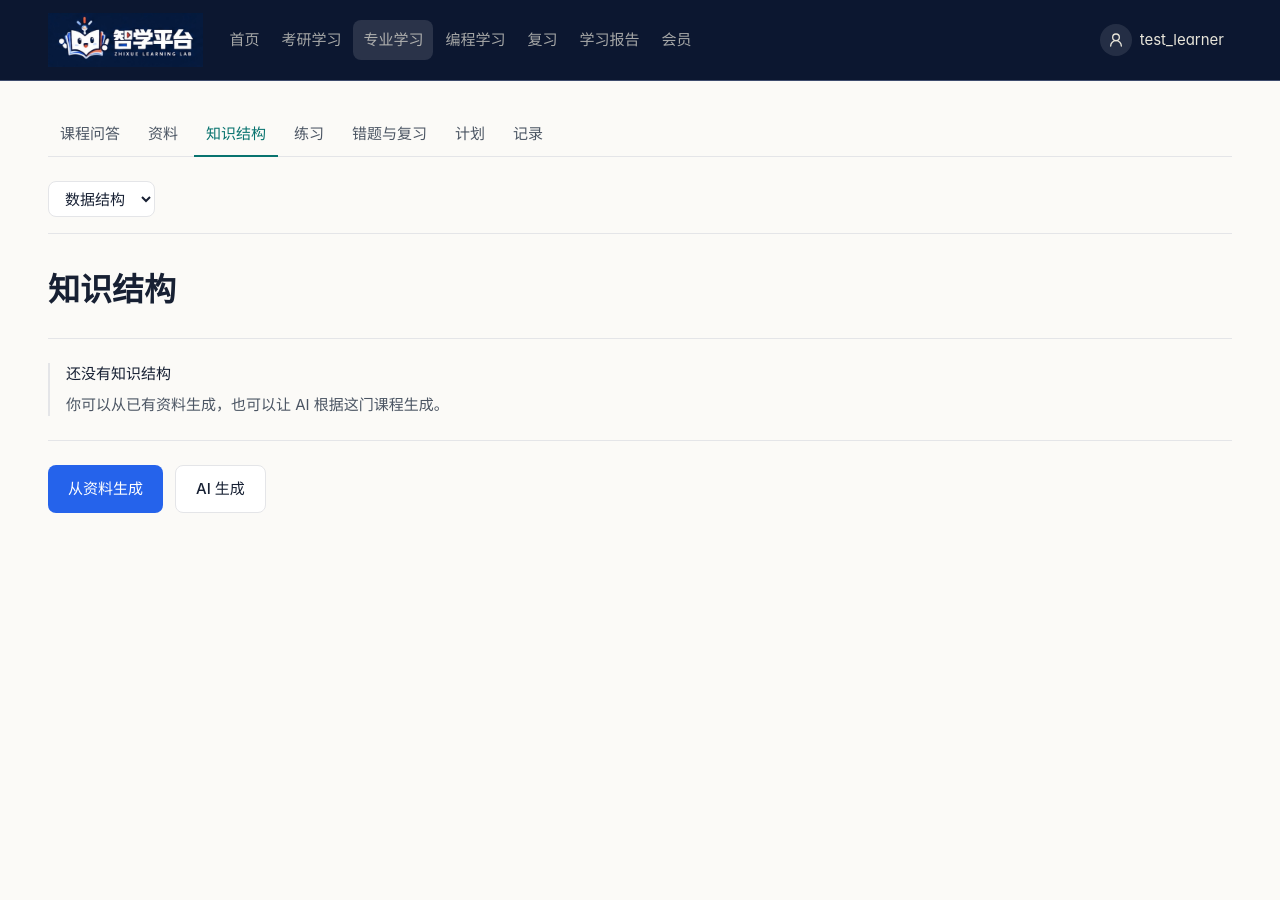
it: an empty knowledge structure › will not generate from files until at least one is chosen, and says why
Step 1. Click the button "从资料生成" → point(106, 489), box [48,465,163,513]
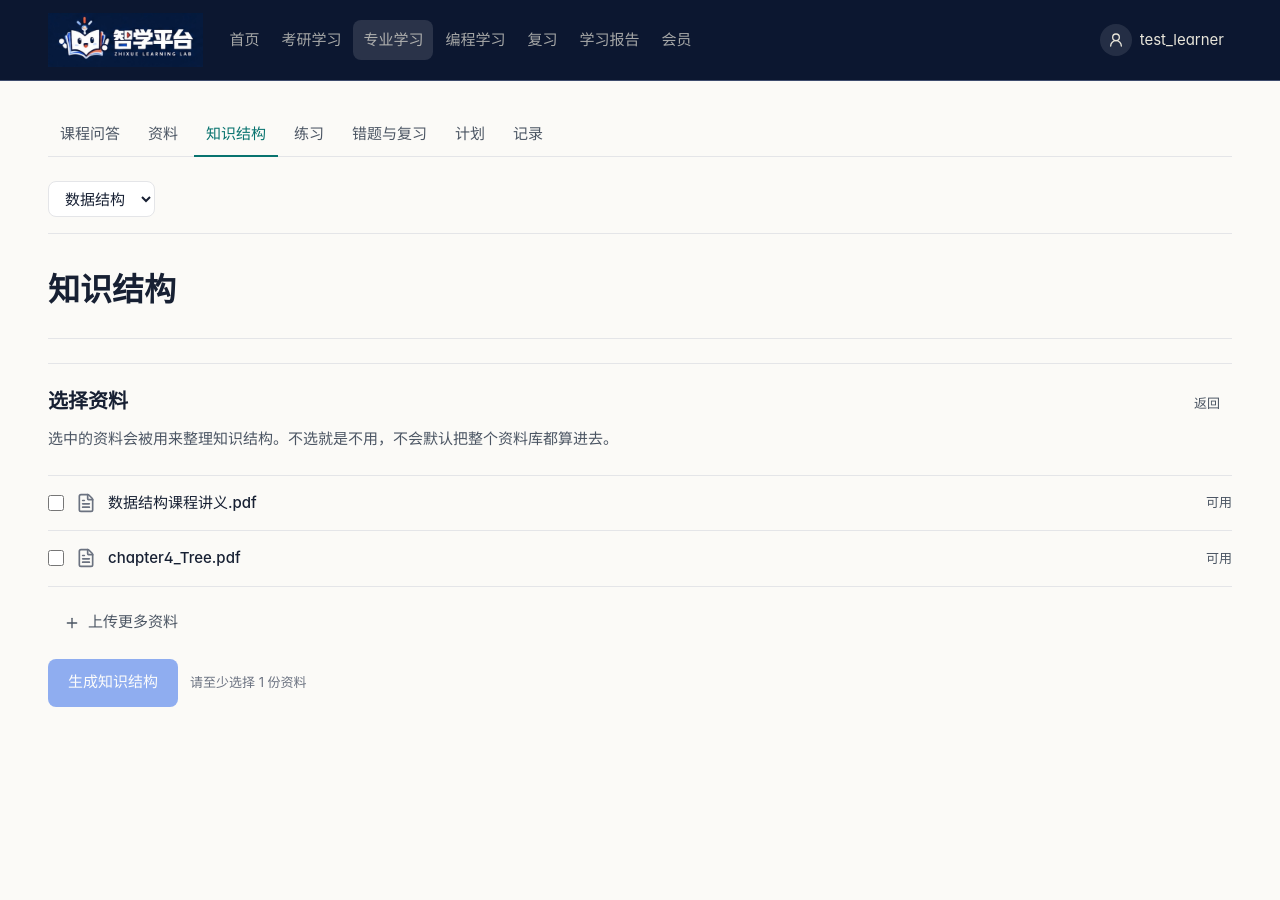
Expected: the button "生成知识结构" is disabled, [48,658,178,706]
Expected: the text "请至少选择 1 份资料" is shown, [190,673,307,692]
Step 2. Click the checkbox labelled "chapter4_Tree.pdf 可用" → point(56, 558), box [48,550,64,566]
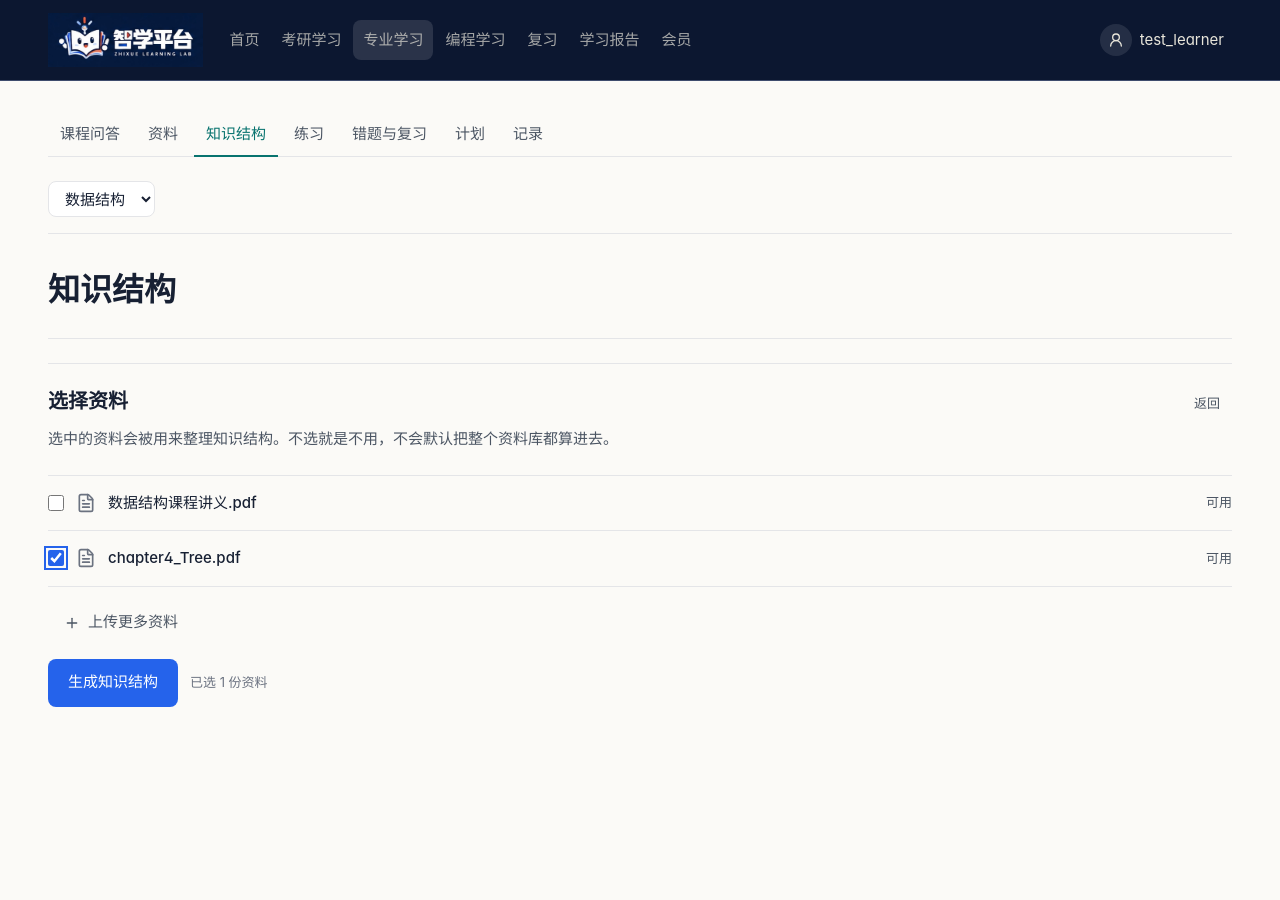
Expected: the button "生成知识结构" is enabled, [48,658,178,706]
Expected: the text "已选 1 份资料" is shown, [190,673,268,692]
